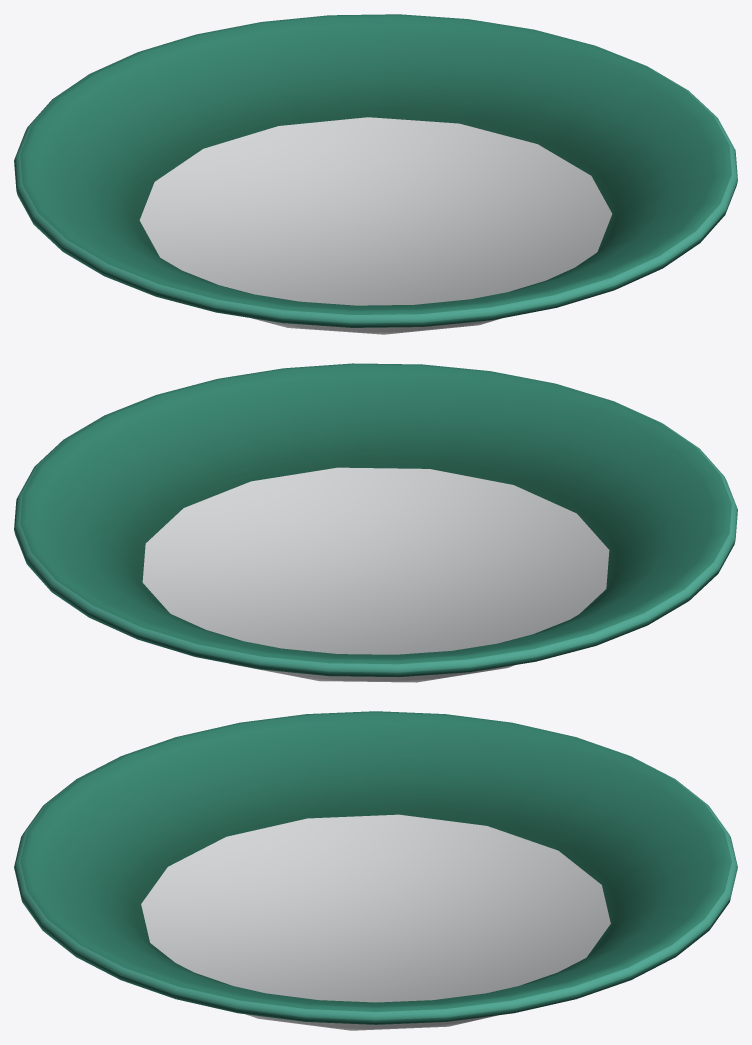
The model's file is plate_004.fbx.
The picture shows the model from 3 angles, top to bottom: view 1: azimuth 30°, elevation 25°; view 2: azimuth 150°, elevation 25°; view 3: azimuth 270°, elevation 25°; orthographic projection.
Visible parts, largest first — view 1: plate_004; view 2: plate_004; view 3: plate_004.
Part boxes in pixels (<box>): plate_004: <box>14,14,737,334</box>; plate_004: <box>14,363,737,682</box>; plate_004: <box>14,711,737,1030</box>.
Size of the model in its own units: 30.05 by 30.05 by 2.99.
